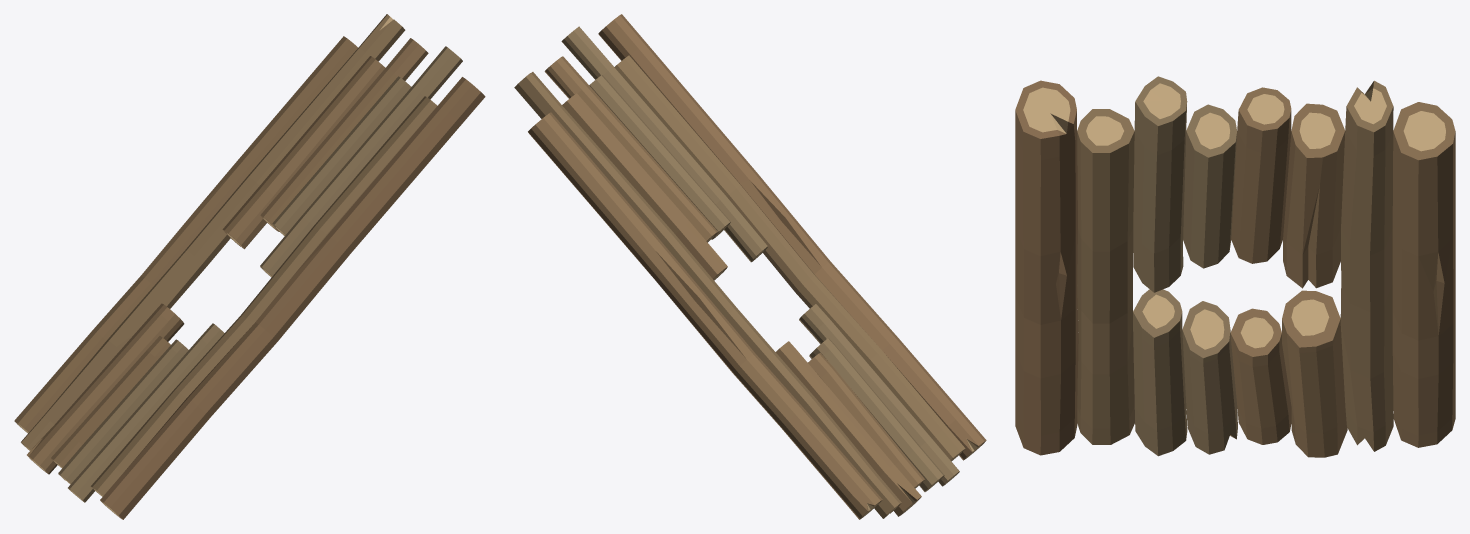
Rendered from rpgpp_ag_roof_01_9x4x3_half_chimney_01.fbx.
3 renders of one model, left to right at view 1: azimuth 30°, elevation 25°; view 2: azimuth 150°, elevation 25°; view 3: azimuth 270°, elevation 25°, orthographic. The views are drawn at different scales.
Visible parts, largest first — view 1: rpgpp_ag_roof_01_9x4x3_half_chimney_01; view 2: rpgpp_ag_roof_01_9x4x3_half_chimney_01; view 3: rpgpp_ag_roof_01_9x4x3_half_chimney_01.
Boxes of the visible parts, left/top/right/bottom form: rpgpp_ag_roof_01_9x4x3_half_chimney_01: left=14, top=14, right=485, bottom=519; rpgpp_ag_roof_01_9x4x3_half_chimney_01: left=514, top=14, right=986, bottom=519; rpgpp_ag_roof_01_9x4x3_half_chimney_01: left=1015, top=76, right=1455, bottom=457.
Bounding box in the file's own units: 6.18 × 5.52 × 3.
